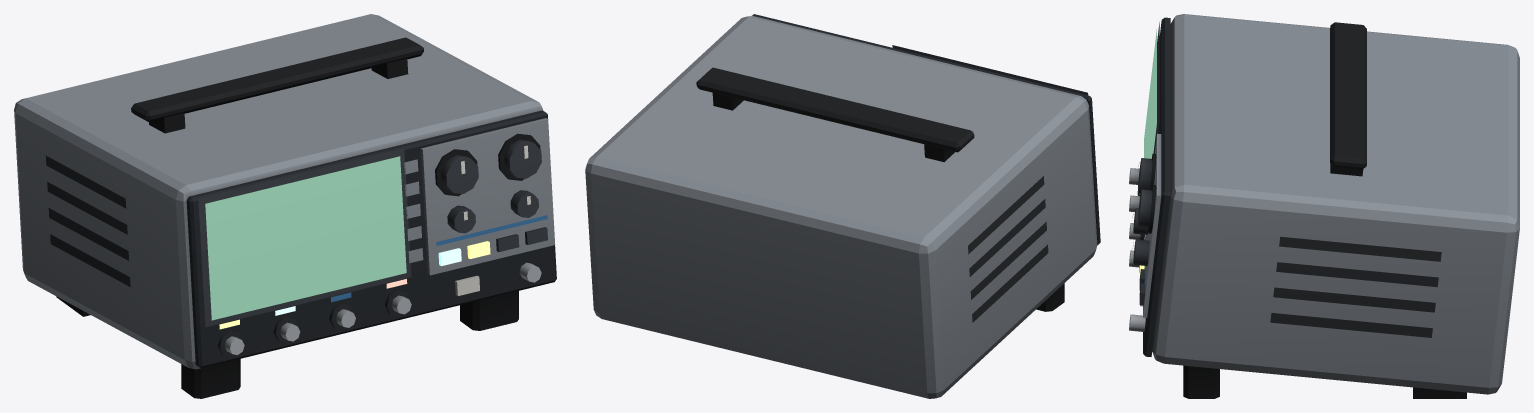
Rendered from oscilloscope.glb.
3 views of the same model, side by side, from view 1: azimuth 30°, elevation 25°; view 2: azimuth 150°, elevation 25°; view 3: azimuth 270°, elevation 25° (orthographic). The views are drawn at different scales.
Visible parts, largest first — view 1: oscilloscope; view 2: oscilloscope; view 3: oscilloscope.
Boxes of the visible parts, box(x1,y1,x2,y2) form: oscilloscope: box(14, 14, 556, 398); oscilloscope: box(585, 14, 1100, 398); oscilloscope: box(1129, 14, 1519, 398).
Size of the model in its own units: 0.4 by 0.234 by 0.3611.
